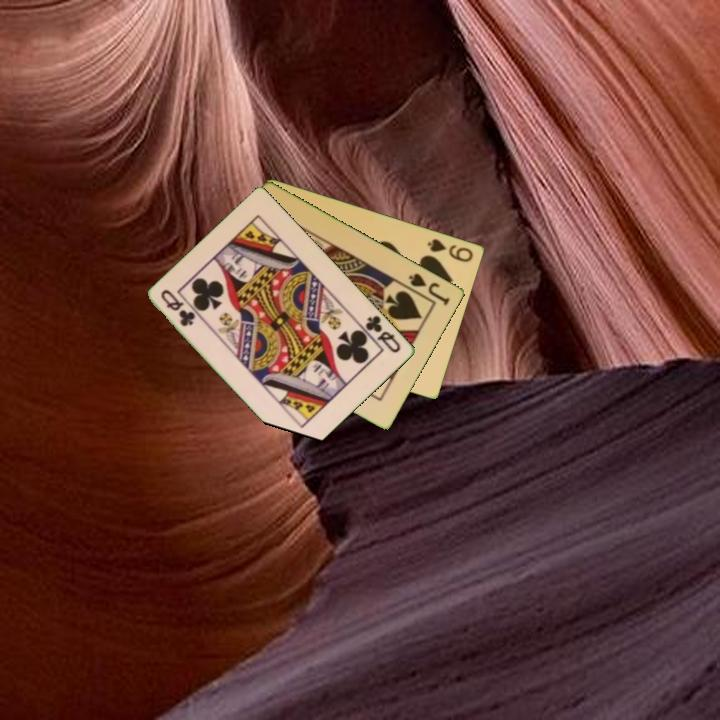9s: (424, 235, 476, 265)
Js: (405, 270, 453, 308)
Qc: (357, 312, 404, 356), (158, 286, 198, 330)
